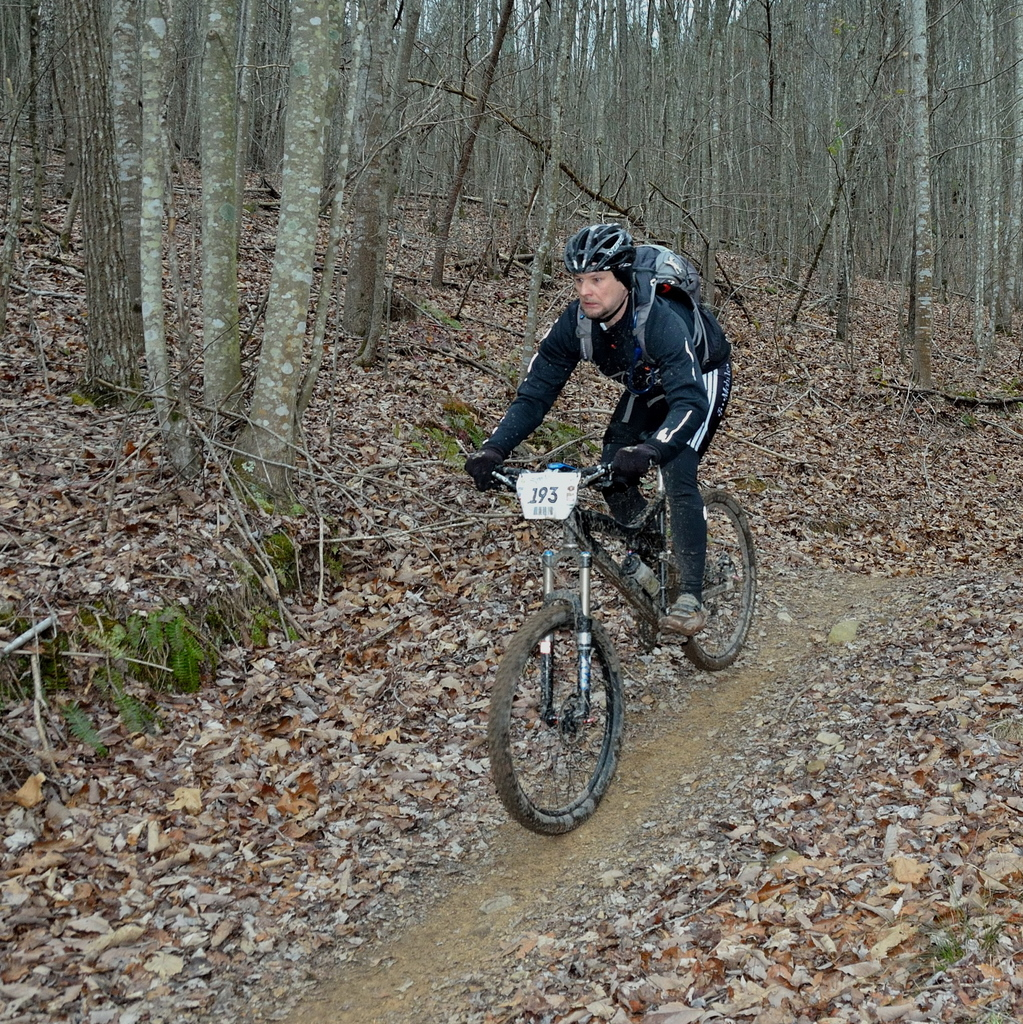Bike_toward: (459, 425, 767, 836)
